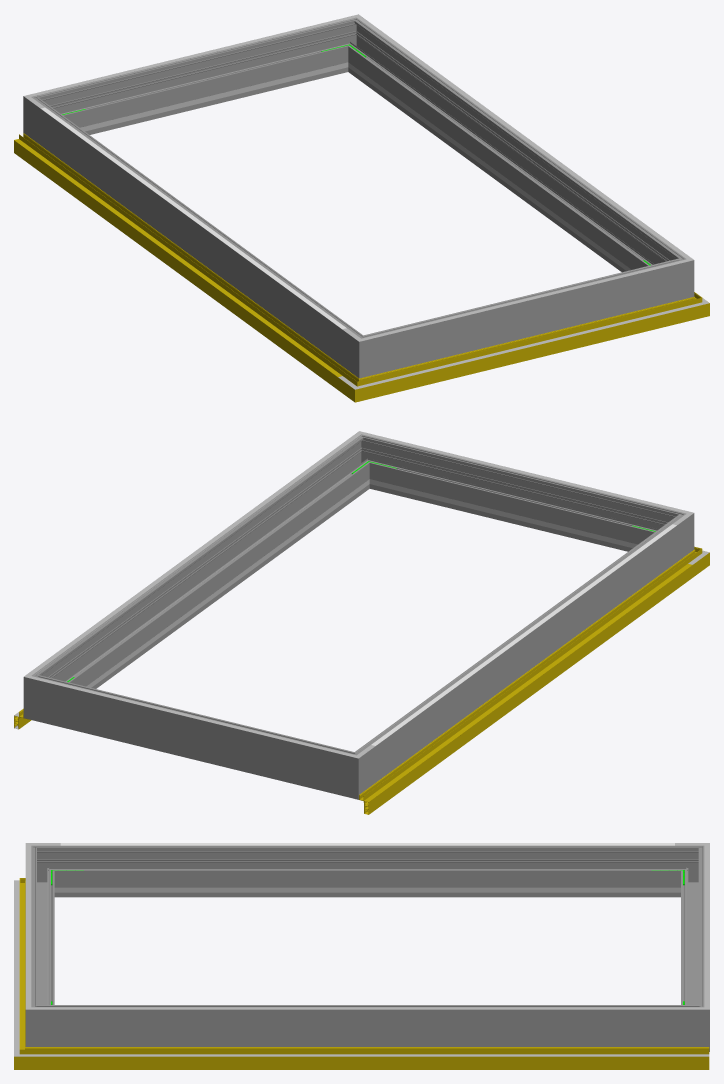
The picture shows the model from 3 angles, top to bottom: view 1: azimuth 30°, elevation 25°; view 2: azimuth 150°, elevation 25°; view 3: azimuth 270°, elevation 25°; orthographic projection.
Visible parts, largest first — view 1: 3DGeom-297, 3DGeom-276, 3DGeom-268, 3DGeom-298, 3DGeom-85, 3DGeom-90, 3DGeom-270, 3DGeom-105, 3DGeom-303, 3DGeom-313, 3DGeom-237, 3DGeom-290 (+8 smaller); view 2: 3DGeom-297, 3DGeom-298, 3DGeom-268, 3DGeom-276, 3DGeom-85, 3DGeom-278, 3DGeom-105, 3DGeom-303, 3DGeom-313, 3DGeom-237, 3DGeom-284, 3DGeom-239 (+4 smaller); view 3: 3DGeom-268, 3DGeom-297, 3DGeom-97, 3DGeom-232, 3DGeom-276, 3DGeom-298, 3DGeom-98, 3DGeom-303, 3DGeom-313, 3DGeom-290, 3DGeom-284, 3DGeom-270 (+6 smaller).
Part boxes in pixels (x1,y1,x2,y2): 3DGeom-297: (351, 28, 672, 272); 3DGeom-276: (56, 23, 343, 134); 3DGeom-268: (40, 106, 351, 365); 3DGeom-298: (383, 263, 664, 371); 3DGeom-85: (14, 133, 347, 389); 3DGeom-90: (379, 301, 680, 395); 3DGeom-270: (342, 327, 388, 378); 3DGeom-105: (14, 139, 341, 376); 3DGeom-303: (371, 27, 676, 248); 3DGeom-313: (41, 107, 346, 329); 3DGeom-237: (364, 74, 631, 270); 3DGeom-290: (659, 249, 694, 303); 3DGeom-297: (45, 445, 366, 688); 3DGeom-298: (374, 440, 661, 551); 3DGeom-268: (366, 523, 677, 782); 3DGeom-276: (53, 680, 334, 792); 3DGeom-85: (359, 558, 692, 814); 3DGeom-278: (329, 744, 375, 799); 3DGeom-105: (364, 564, 692, 802); 3DGeom-303: (41, 443, 346, 665); 3DGeom-313: (371, 524, 676, 745); 3DGeom-237: (86, 491, 353, 687); 3DGeom-284: (23, 665, 58, 725); 3DGeom-239: (398, 486, 626, 546); 3DGeom-268: (60, 845, 675, 897); 3DGeom-297: (60, 1005, 675, 1046); 3DGeom-97: (48, 1047, 709, 1069); 3DGeom-232: (88, 887, 647, 892); 3DGeom-276: (681, 857, 704, 1004); 3DGeom-298: (31, 857, 54, 1004); 3DGeom-98: (49, 1054, 709, 1056); 3DGeom-303: (60, 1007, 674, 1009); 3DGeom-313: (60, 843, 674, 845); 3DGeom-290: (25, 995, 60, 1046); 3DGeom-284: (675, 995, 709, 1051); 3DGeom-270: (31, 845, 60, 897).
Size of the model in its own units: 1.83 by 0.2667 by 3.05.
